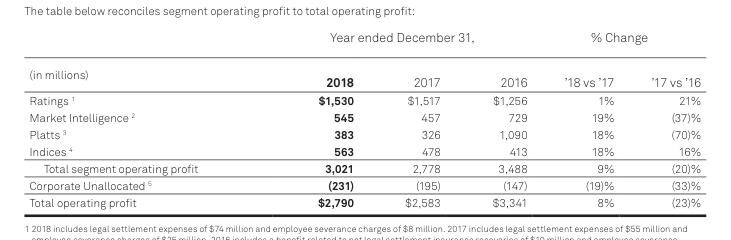table: (28, 28, 700, 208)
table column: (28, 28, 257, 208), (257, 28, 378, 208), (378, 28, 465, 208), (545, 28, 631, 208), (465, 28, 545, 208), (631, 28, 700, 208)
table column header: (28, 28, 700, 91)
table row: (28, 58, 700, 91), (28, 28, 700, 58), (28, 91, 700, 108), (28, 108, 700, 125), (28, 125, 700, 142), (28, 142, 700, 159), (28, 159, 700, 176), (28, 176, 700, 193), (28, 193, 700, 208)
table spanning cell: (28, 28, 257, 91), (257, 28, 545, 58), (545, 28, 700, 58)
